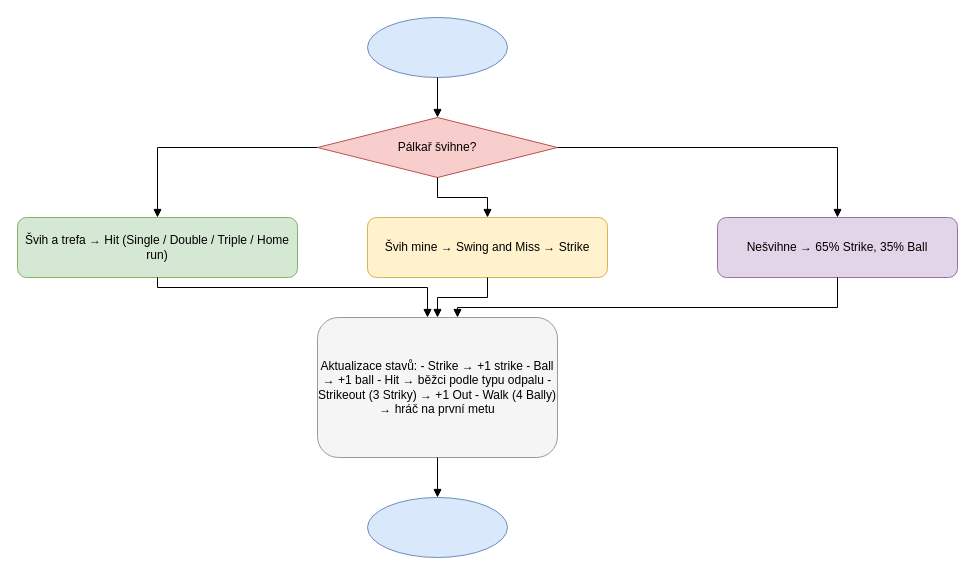
The diagram is 975 pixels wide and 575 high, and some of its shapes have lost their labels. Here are the shapes that lost their labels. From the top down, the centre of each, then its label:
[437,47]: Start Pálky
[437,527]: Konec Pálky
